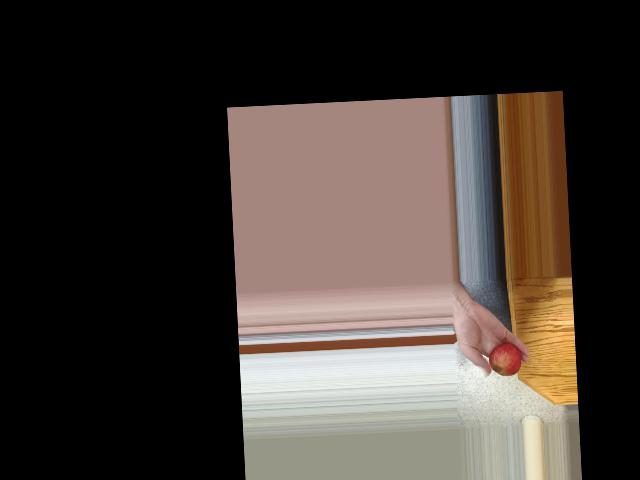apple: (486, 340, 521, 376)
